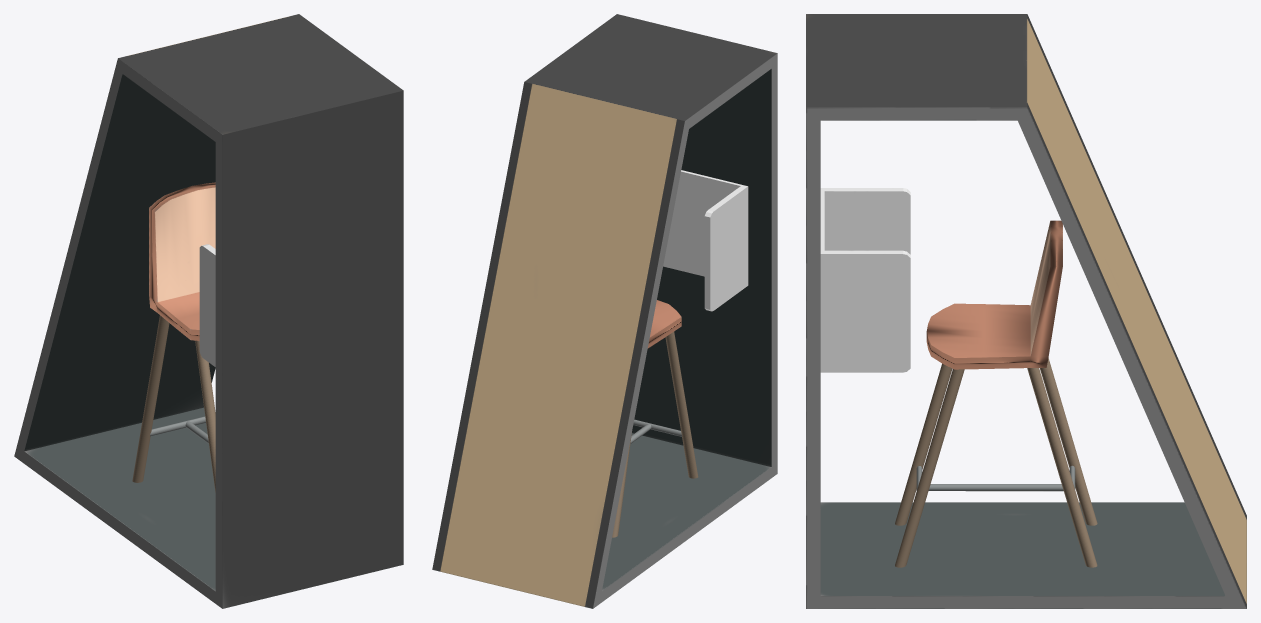
Rendered from Kiosk.gltf.
3 renders of one model, left to right at view 1: azimuth 30°, elevation 25°; view 2: azimuth 150°, elevation 25°; view 3: azimuth 270°, elevation 25°, orthographic. The views are drawn at different scales.
Visible parts, largest first — view 1: Cube, P2, Cube.001; view 2: Cube, Cube.001, P2; view 3: Cube, P2, Cube.001.
Part boxes in pixels (box(x1,y1,x2,y2)): Cube: box(14, 14, 403, 608); P2: box(132, 182, 215, 492); Cube.001: box(199, 244, 215, 366); Cube: box(432, 14, 777, 608); Cube.001: box(663, 170, 748, 311); P2: box(612, 300, 698, 537); Cube: box(806, 14, 1246, 608); P2: box(895, 220, 1097, 567); Cube.001: box(820, 188, 910, 372).
Size of the model in its own units: 3.3 by 8.26 by 6.58.
Materials: 3 (3 with a texture image).
